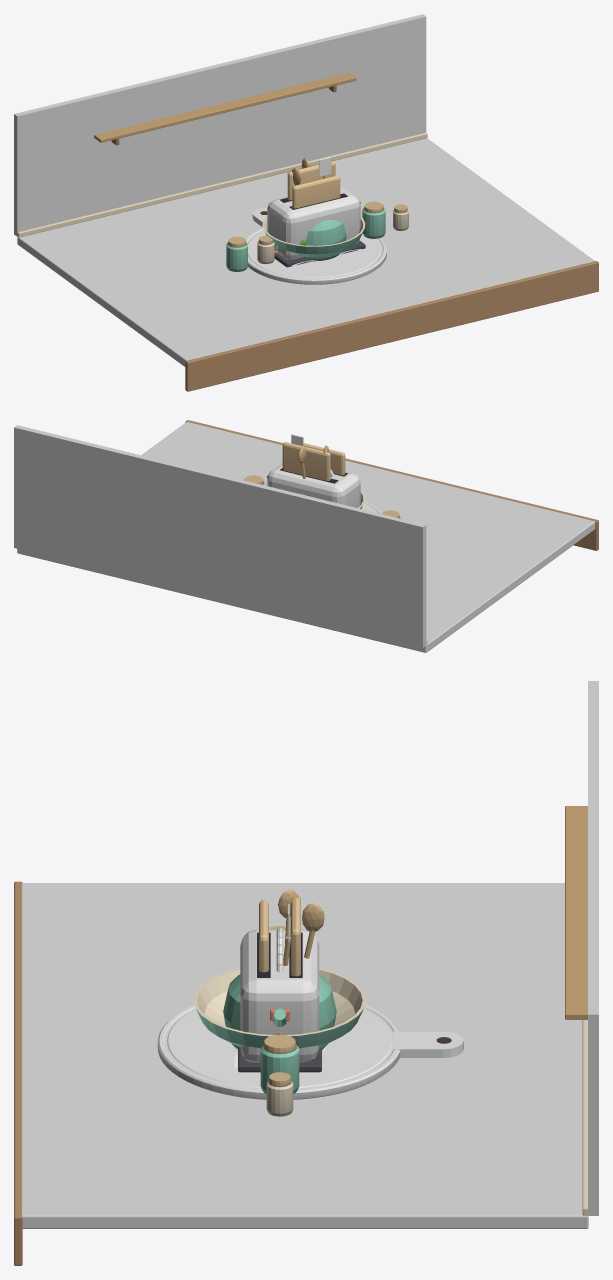
File: cozinha-5CtVssFv.glb
3 views of the same model, one above another, from view 1: azimuth 30°, elevation 25°; view 2: azimuth 150°, elevation 25°; view 3: azimuth 270°, elevation 25° (orthographic). The views are drawn at different scales.
Parts seen in each view (by area): view 1: bancada, torradeira, tabua, potes, fruteira, chaleira; view 2: bancada, torradeira, pote_utensilios; view 3: bancada, tabua, torradeira, fruteira, potes, chaleira, pote_utensilios.
Boxes of the visible parts, x1=… form: bancada: x1=14, y1=14, x2=598, y2=391; torradeira: x1=267, y1=161, x2=365, y2=267; tabua: x1=245, y1=208, x2=386, y2=284; potes: x1=226, y1=201, x2=408, y2=271; fruteira: x1=262, y1=216, x2=365, y2=257; chaleira: x1=304, y1=201, x2=360, y2=261; bancada: x1=14, y1=420, x2=598, y2=652; torradeira: x1=267, y1=442, x2=360, y2=507; pote_utensilios: x1=291, y1=434, x2=329, y2=478; bancada: x1=14, y1=681, x2=598, y2=1265; tabua: x1=157, y1=1004, x2=463, y2=1099; torradeira: x1=238, y1=894, x2=321, y2=1072; fruteira: x1=193, y1=968, x2=366, y2=1048; potes: x1=260, y1=926, x2=299, y2=1116; chaleira: x1=223, y1=927, x2=336, y2=1049; pote_utensilios: x1=278, y1=889, x2=324, y2=965.
Size of the model in its own units: 64.4 by 22.4 by 47.4.
